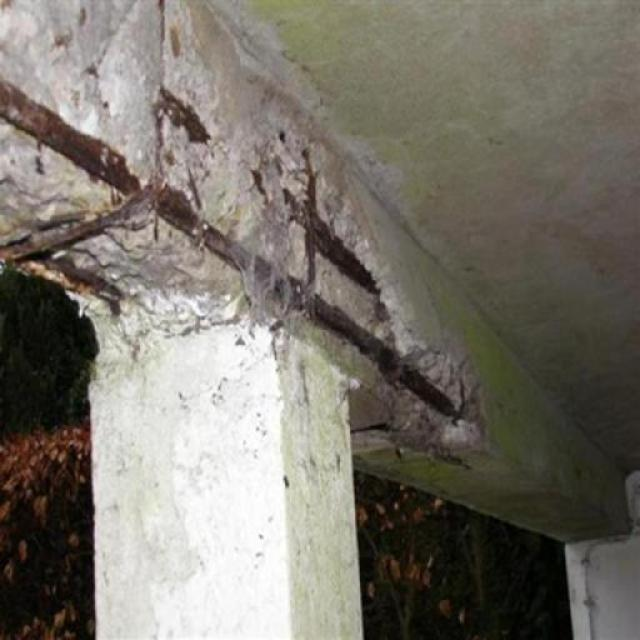D0w0: (0, 0, 489, 460)
